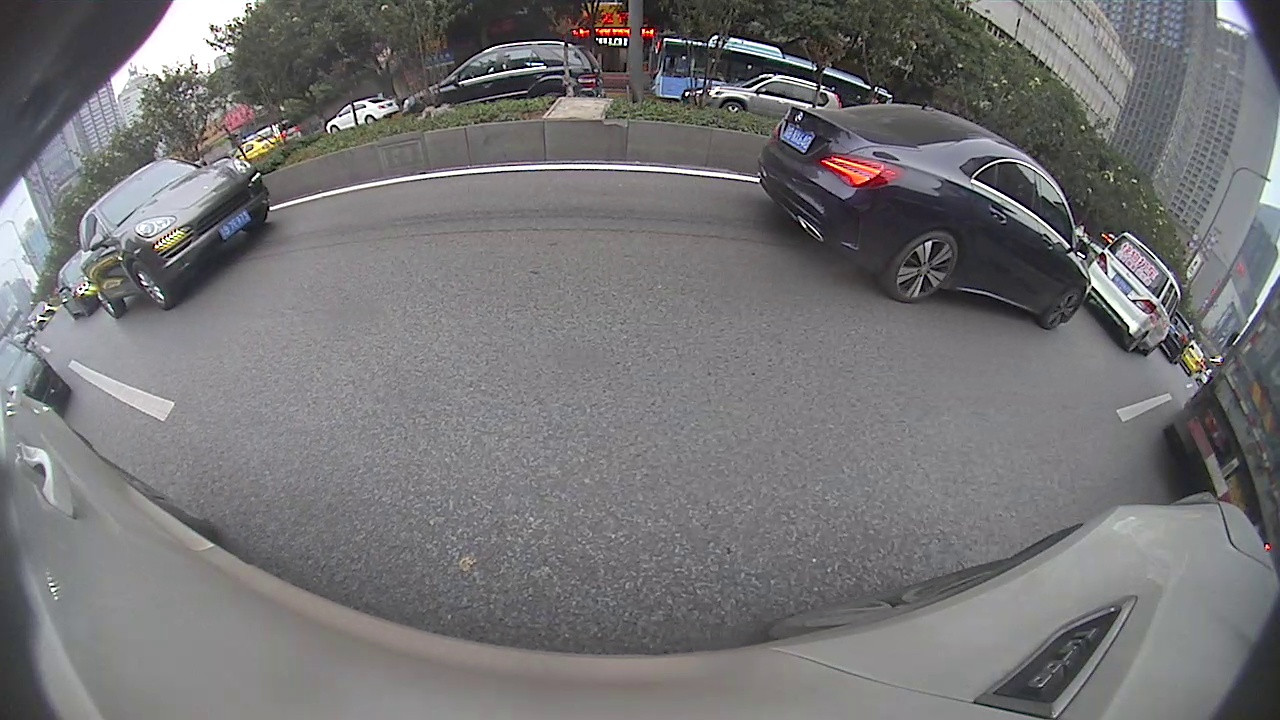car: (759, 100, 1088, 330), (78, 155, 273, 317), (1080, 229, 1180, 355)
front: (130, 262, 172, 310), (1043, 288, 1084, 330), (720, 98, 745, 119)
rear: (887, 234, 966, 303)
